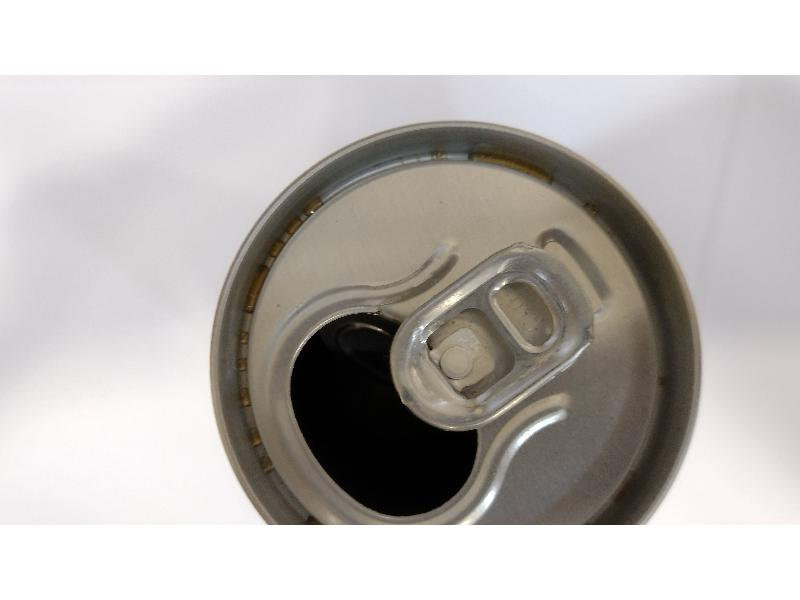can: (201, 113, 709, 521)
